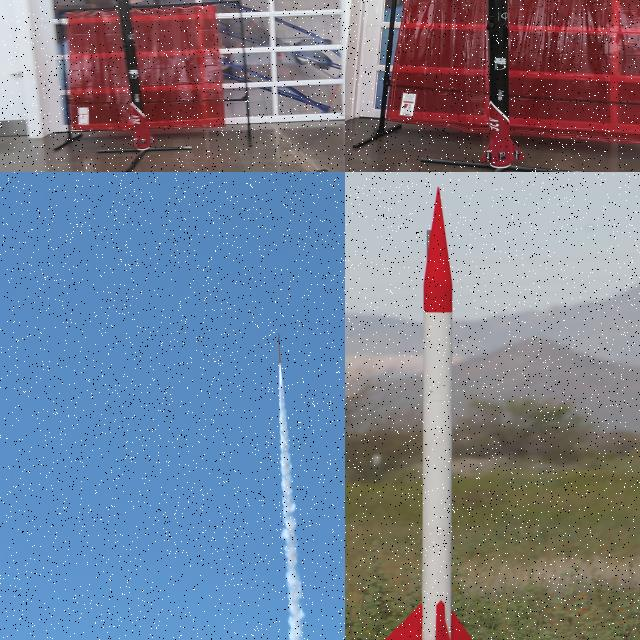Rocket: (368, 183, 492, 640), (482, 0, 524, 168), (117, 0, 156, 149), (277, 332, 282, 364)
